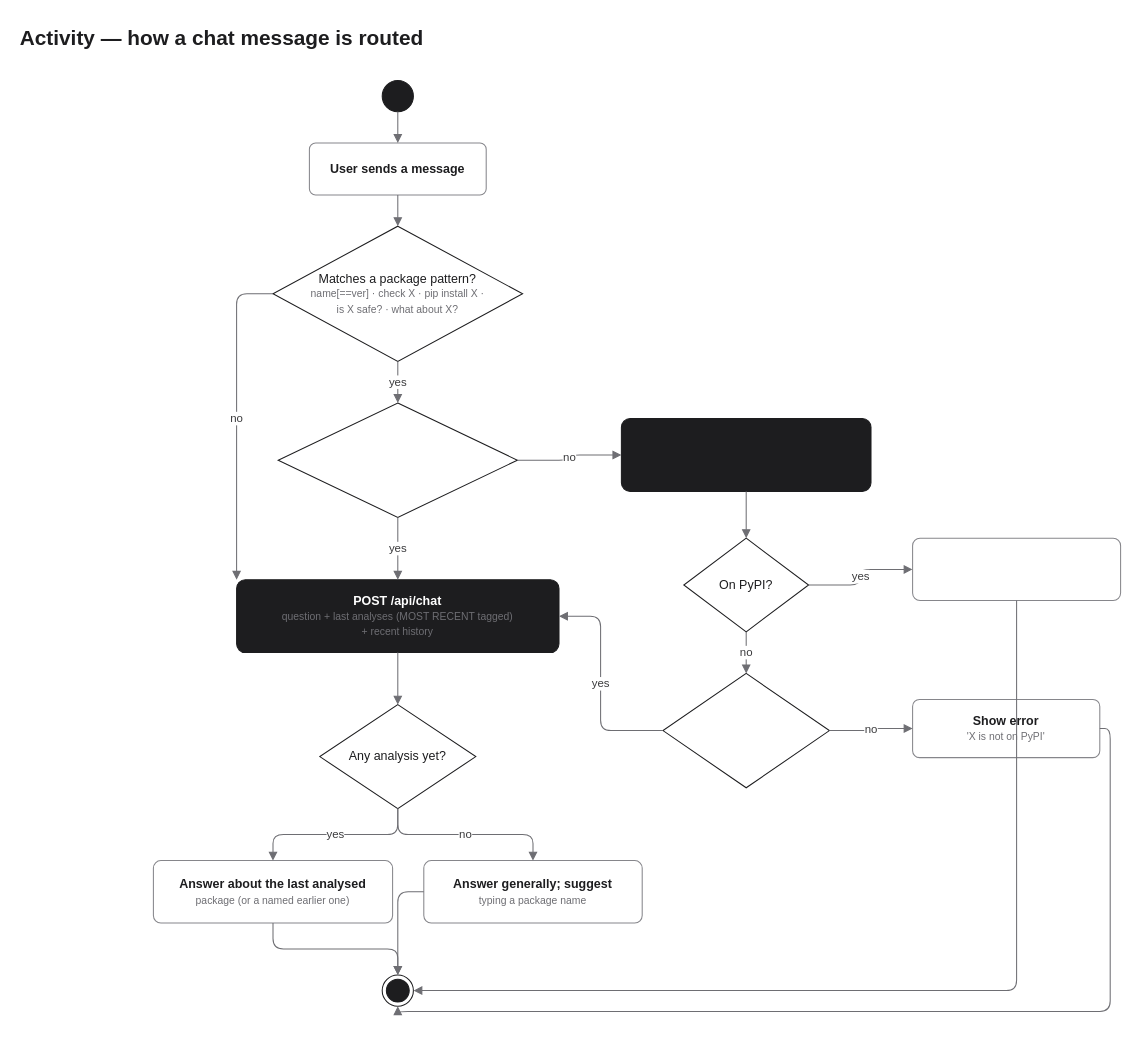
This 1139x1038 diagram has some shape labels left out. The shapes that lost their labels are listed below. From the top down, each one's centre as x and y in pixels, then its label:
At point (397, 459): "Name is a chat word? it, this, why, help, …".
At point (745, 454): "POST /api/analyze fetch → classify → similarity → tier".
At point (1016, 569): "Show verdict card then stream /api/explain".
At point (745, 730): "Lone word and a previous result?".
